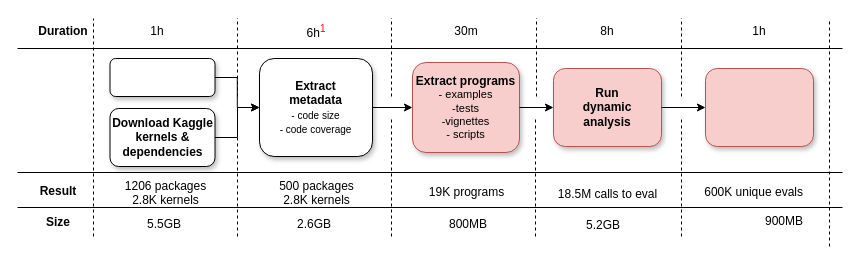
Image size: 861x265. Some labels were removed from this diagram. The shapes that lost their labels are listed below. From the top down, each one's centre as x and y in pixels, then its label:
At [163,79]: "Download & install packages".
At [760,109]: "Summarize data".
